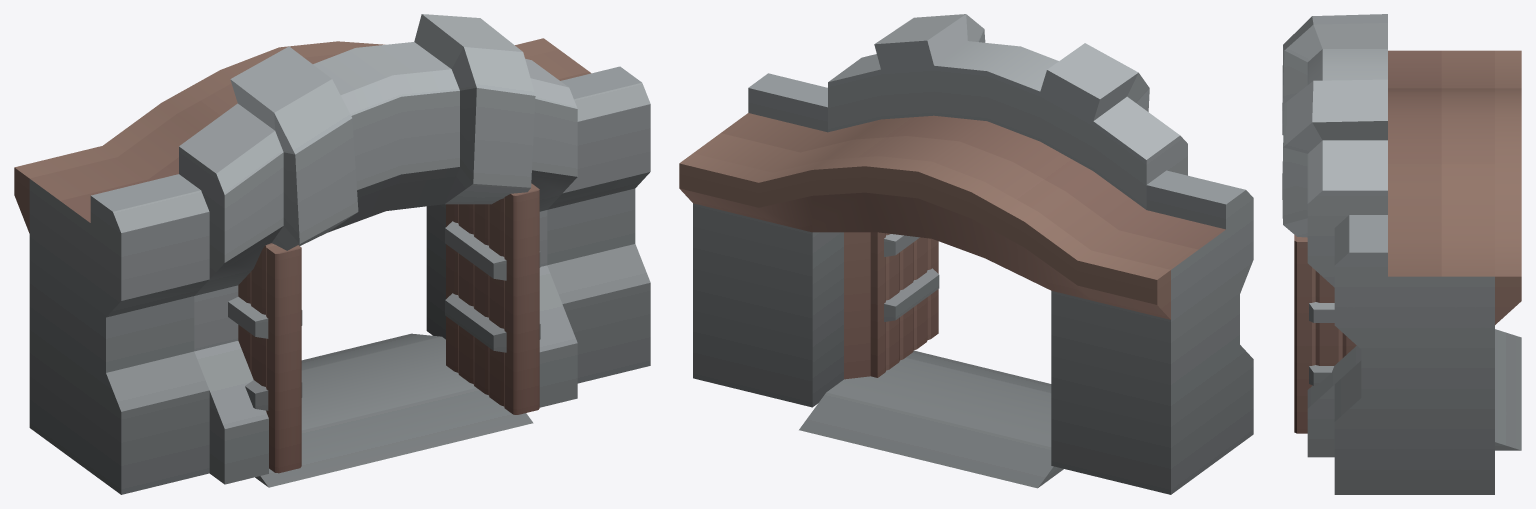
File: prop-entrance.glb
The picture shows the model from 3 angles, left to right: view 1: azimuth 30°, elevation 25°; view 2: azimuth 150°, elevation 25°; view 3: azimuth 270°, elevation 25°; orthographic projection. The views are drawn at different scales.
Parts seen in each view (by area): view 1: wall_straight_gate, wall_straight_gate_door_left, wall_straight_gate_door_right; view 2: wall_straight_gate, wall_straight_gate_door_left; view 3: wall_straight_gate, wall_straight_gate_door_left.
Boxes of the visible parts, x1=… form: wall_straight_gate: x1=14, y1=14, x2=650, y2=494; wall_straight_gate_door_left: x1=445, y1=183, x2=540, y2=414; wall_straight_gate_door_right: x1=228, y1=243, x2=302, y2=473; wall_straight_gate: x1=679, y1=14, x2=1253, y2=494; wall_straight_gate_door_left: x1=870, y1=232, x2=939, y2=377; wall_straight_gate: x1=1282, y1=14, x2=1521, y2=494; wall_straight_gate_door_left: x1=1294, y1=235, x2=1356, y2=433.
Bounding box in the file's own units: 2 × 1.41 × 0.8956.
Materials: 1 (1 with a texture image).
